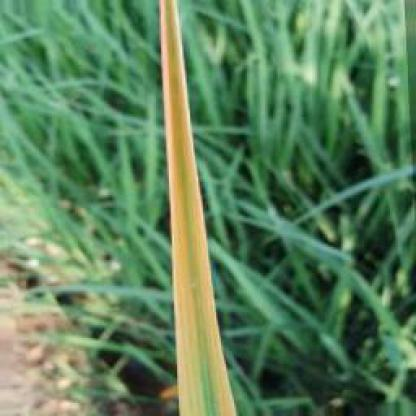Tungro: (158, 1, 242, 414)
